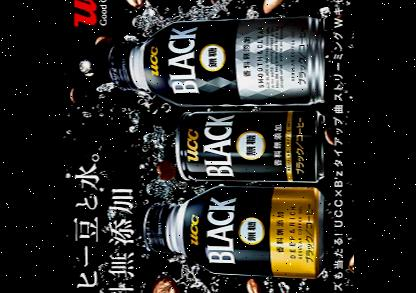Can: (176, 109, 323, 180)
Plastic Bottle: (109, 14, 324, 104), (144, 184, 325, 275)
